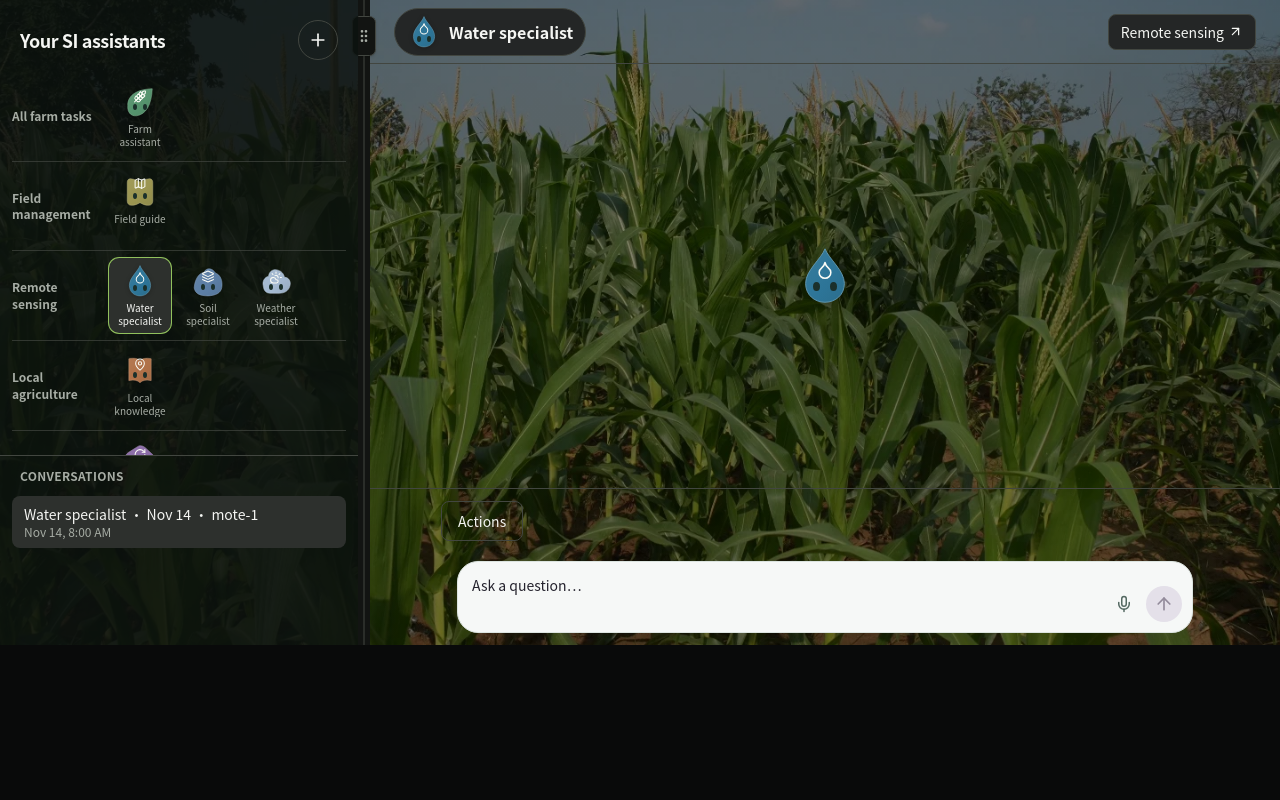
Scenario: shows only the selected domain's conversation history
Check: the button "Water specialist · Nov 14 · mote-1 Nov 14, 8:00 AM" is shown, box [12,496,346,548]
Click the button "Field guide" at (140, 206), box [108,168,172,244]
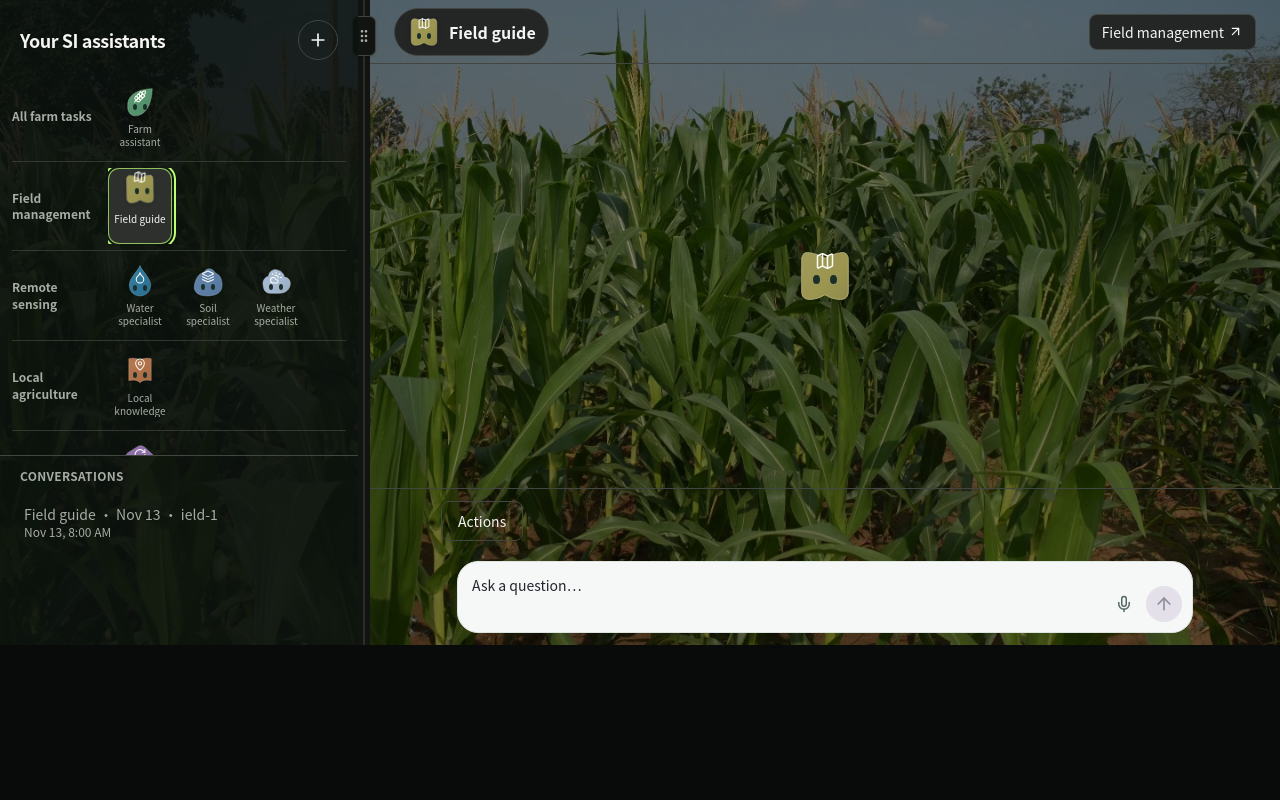
Check: the button "Field guide · Nov 13 · ield-1 Nov 13, 8:00 AM" is shown, box [12,496,346,548]
